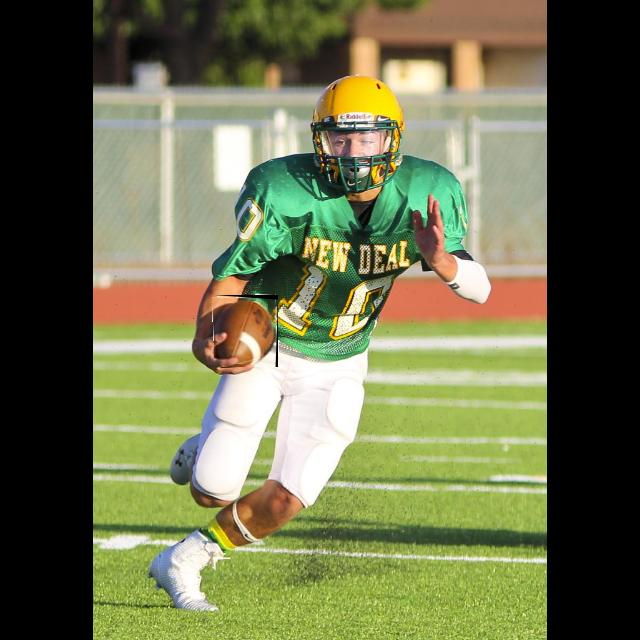Football: (214, 295, 278, 367)
